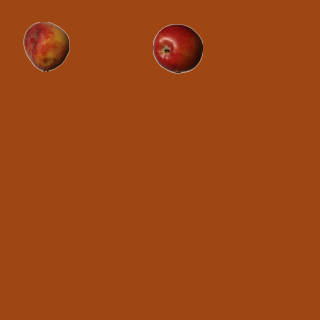Apple Braeburn: (152, 23, 202, 73)
Peach: (21, 21, 71, 71)
